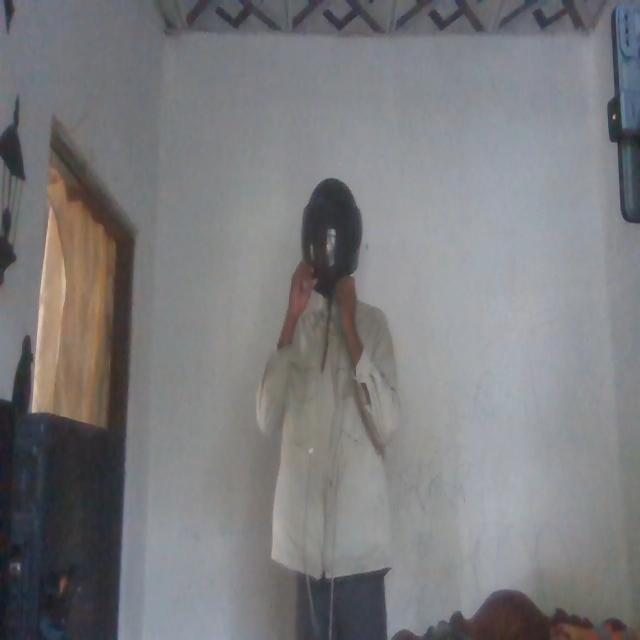Helmet_Wearer: (293, 178, 377, 296)
Jacket_Wearer: (260, 292, 404, 588)
Person: (257, 172, 399, 640)
